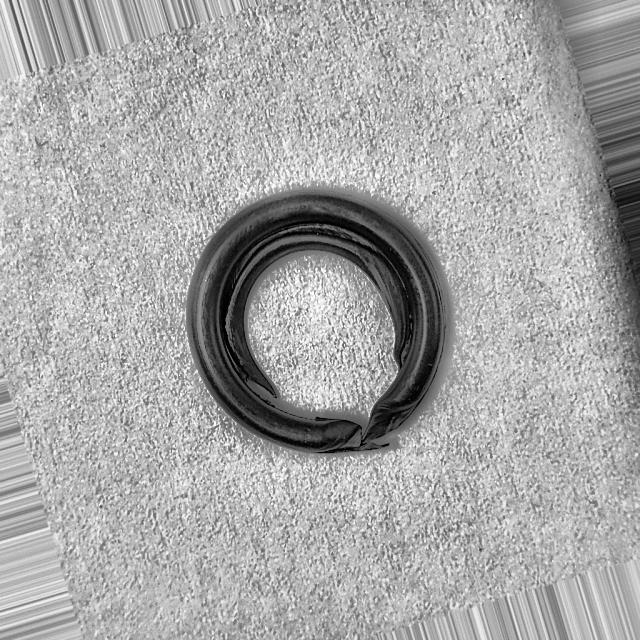切割缺陷: (370, 401, 422, 434), (313, 429, 359, 455)
挤压缺陷: (359, 417, 394, 454)
裂纹: (221, 225, 411, 399), (314, 416, 344, 421)
